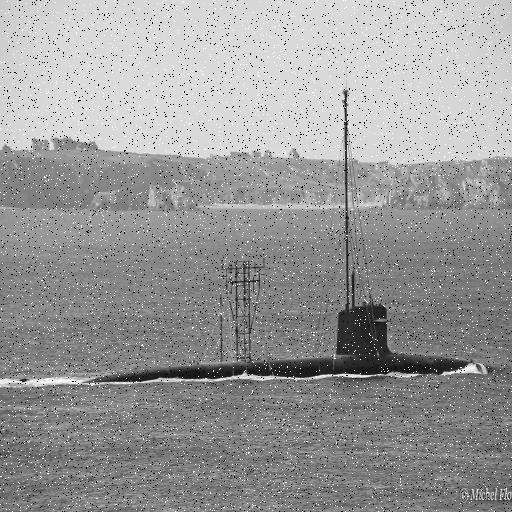submarine: (81, 301, 512, 385)
